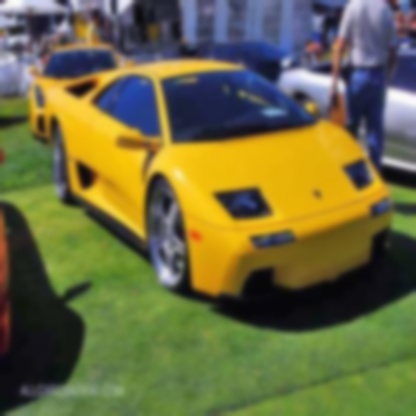Vehicle: (44, 55, 396, 305)
